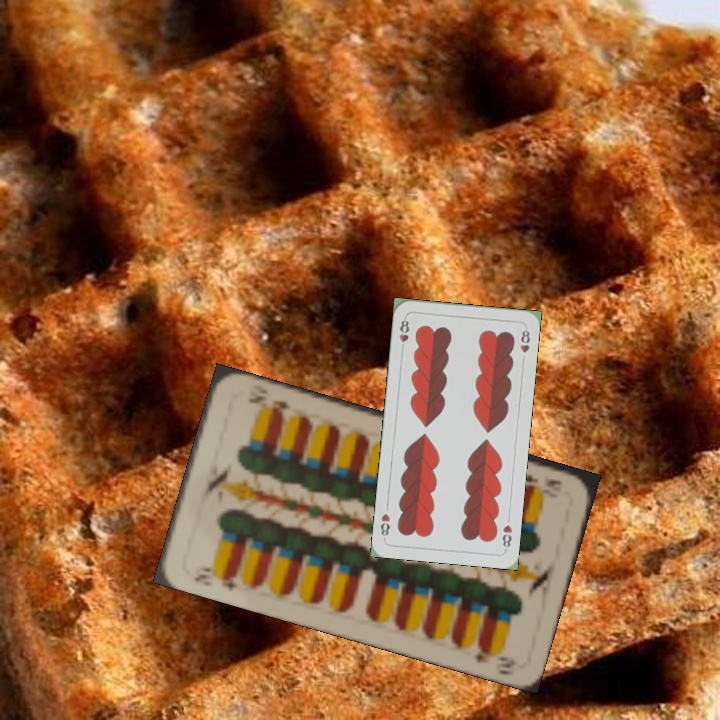E10: (190, 562, 239, 594), (520, 470, 565, 498)
H8: (395, 313, 412, 354), (498, 521, 515, 553)
